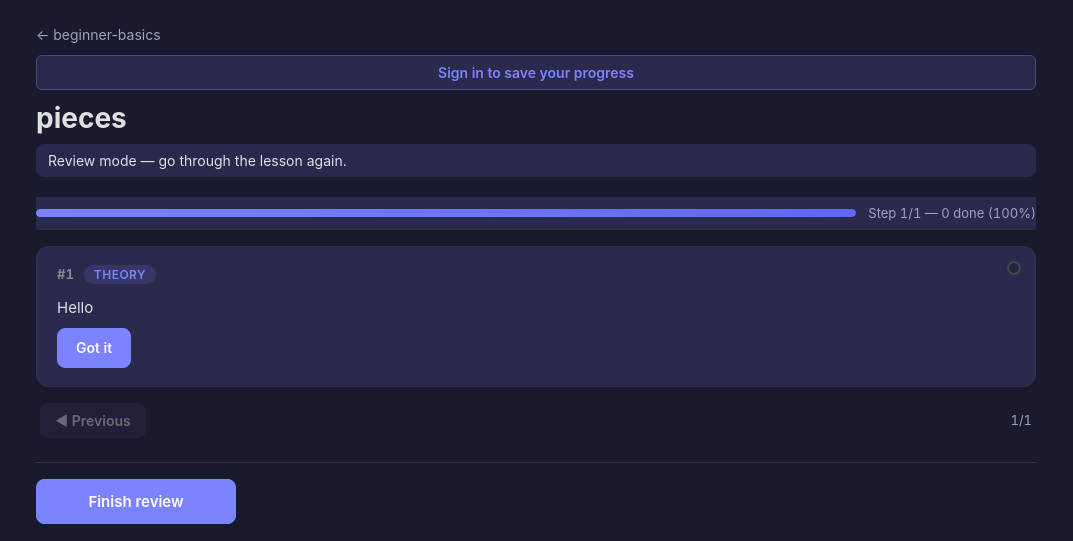
LessonPage review result screen › ≥80% + intervalDays → экран «Освоено, следующий повтор через N дней», quality=5
The width and height of the screenshot is (1073, 541).
Step 1. Click the button with test id "lesson-complete-btn" → x=136, y=501, box [36,479,236,524]
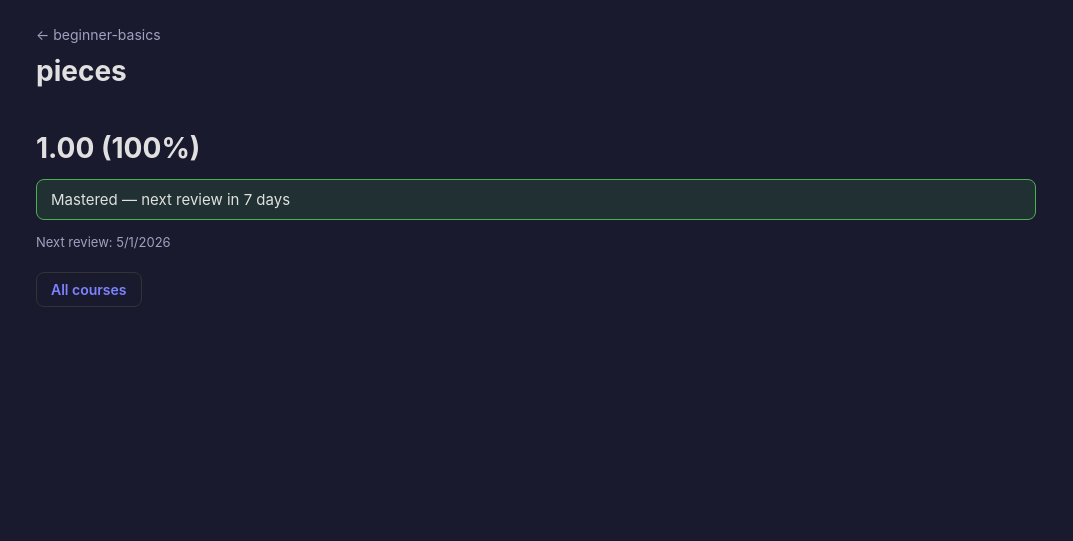
Expected: the text with test id "lesson-review-result-explanation-mastered" shows "7", [51,190,290,209]
Expected: the text "Next review: 5/1/2026" is shown, [36,234,171,250]
Expected: the text with test id "lesson-review-result-score" shows "1.00", [36,131,200,165]
